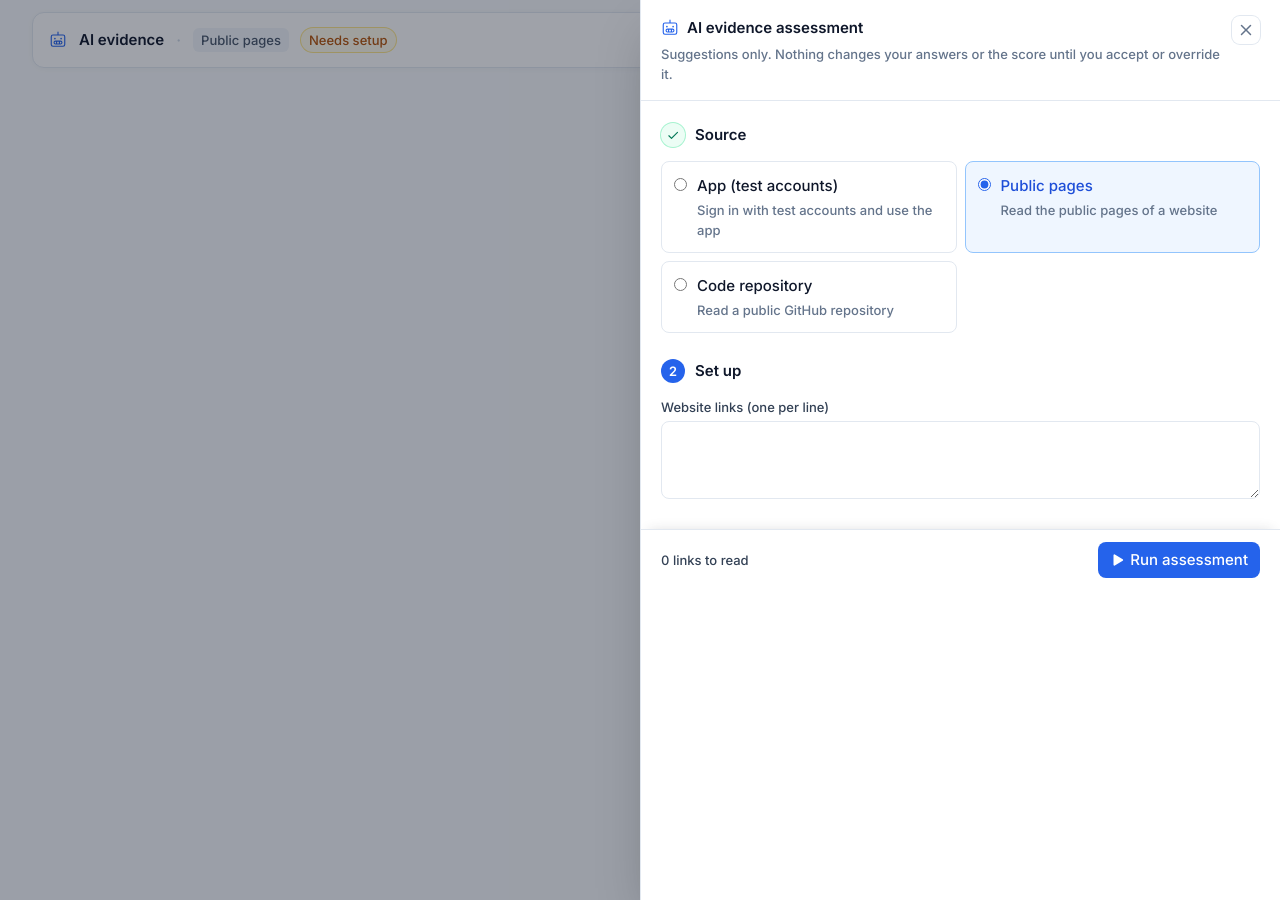
Test case: Code repository source in the evidence panel › sends a blank branch as null and shows a refusal sentence under the field
The width and height of the screenshot is (1280, 900).
Earlier steps of the test are not shown.
Click the radio button labelled "Code repository" at (680, 284), box [674, 278, 687, 291]
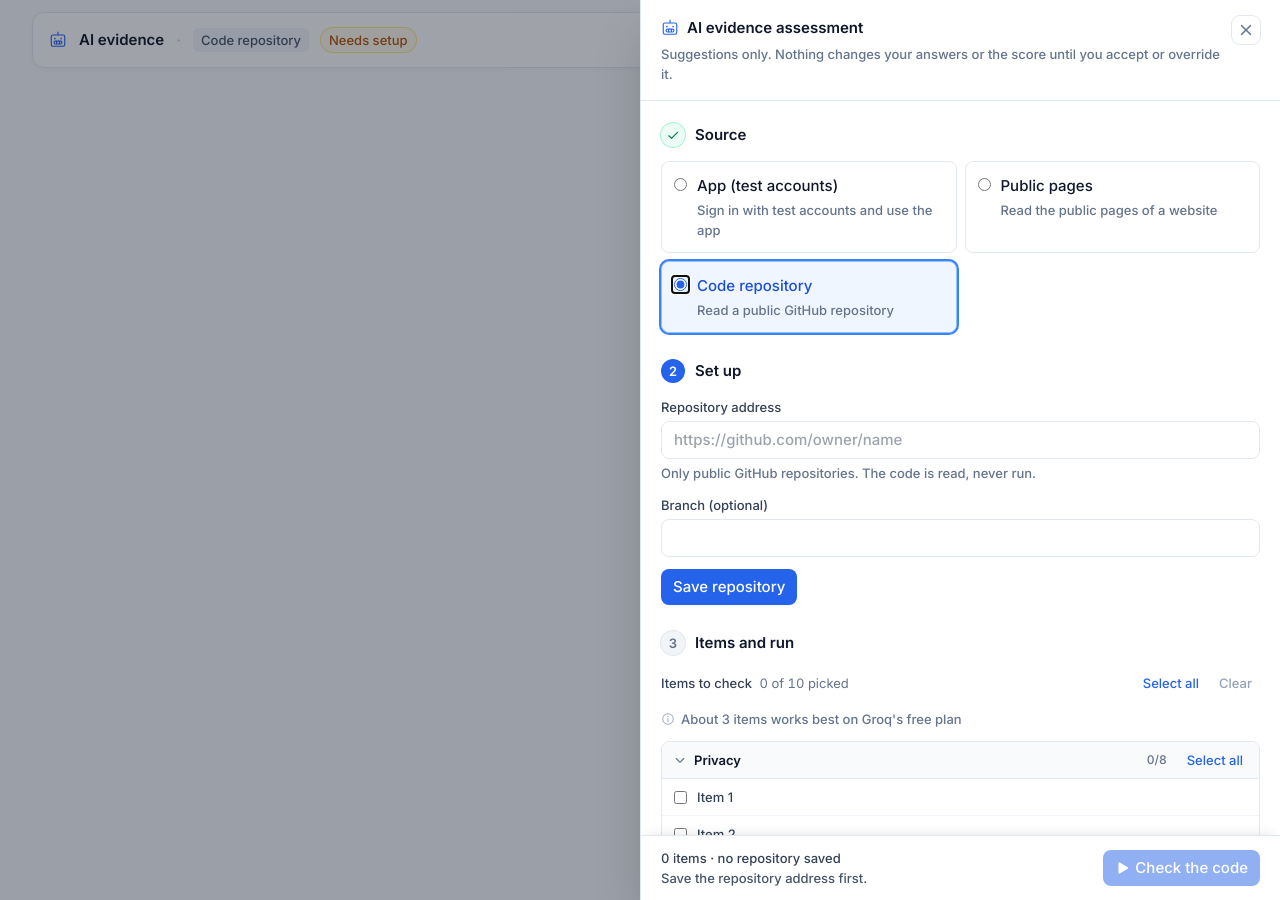
Check: the field labelled "Repository address" is shown
Type "nope" into the field labelled "Repository address" at (960, 440), box [661, 421, 1260, 459]
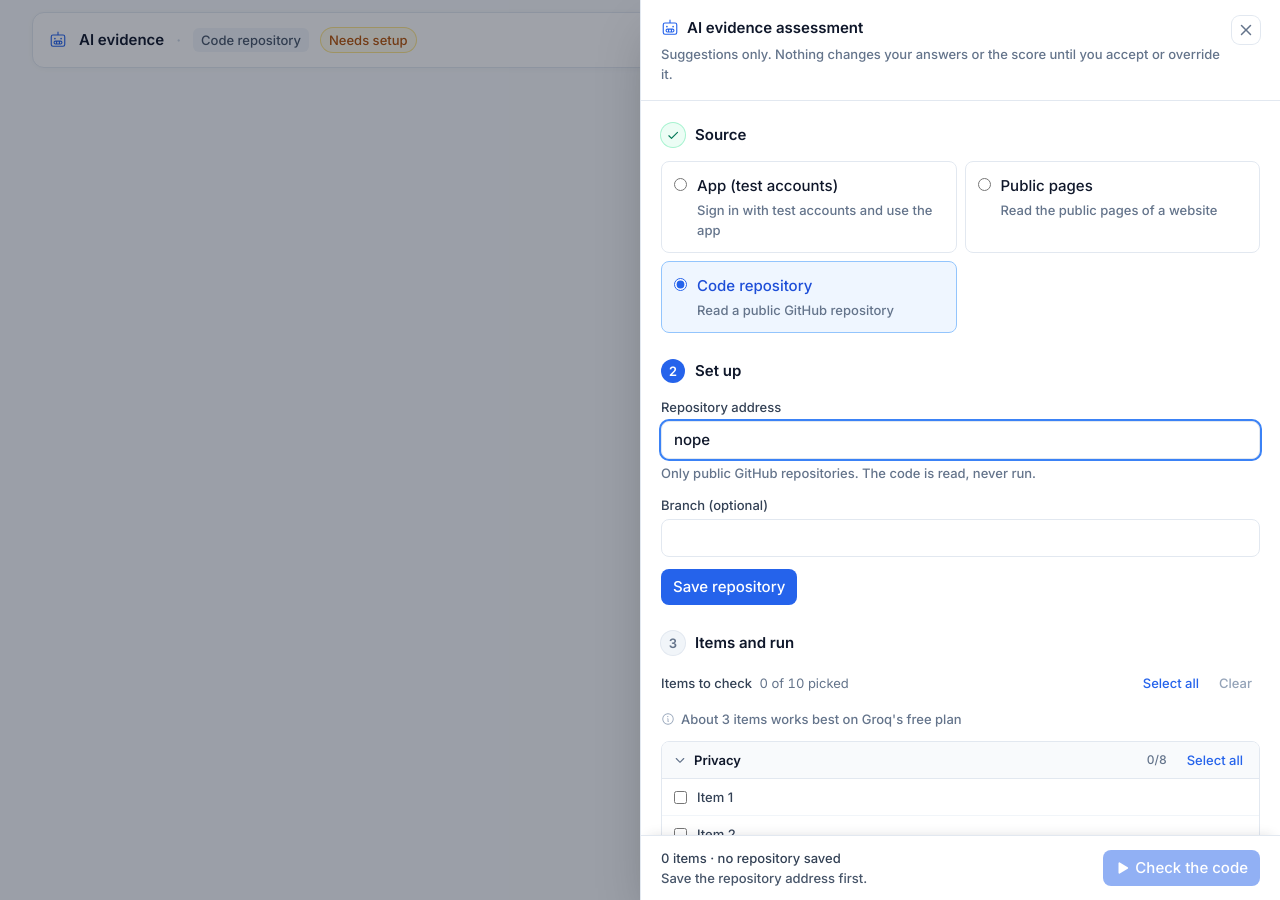
Click the button "Save repository" at (729, 587), box [661, 569, 797, 605]
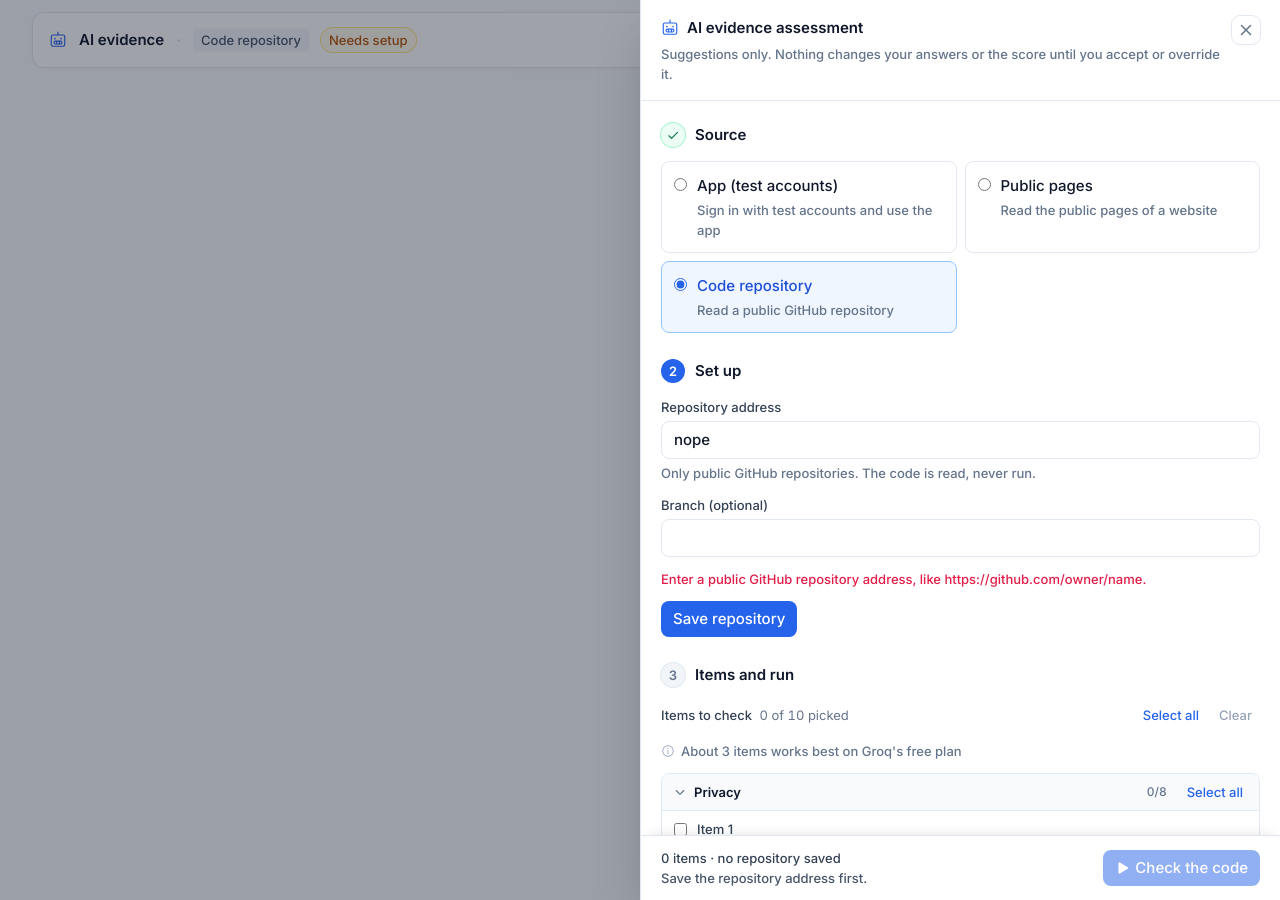
Check: the message reads "Enter a public GitHub repository address, like https://github.com/owner/name.", box [661, 571, 1146, 587]
